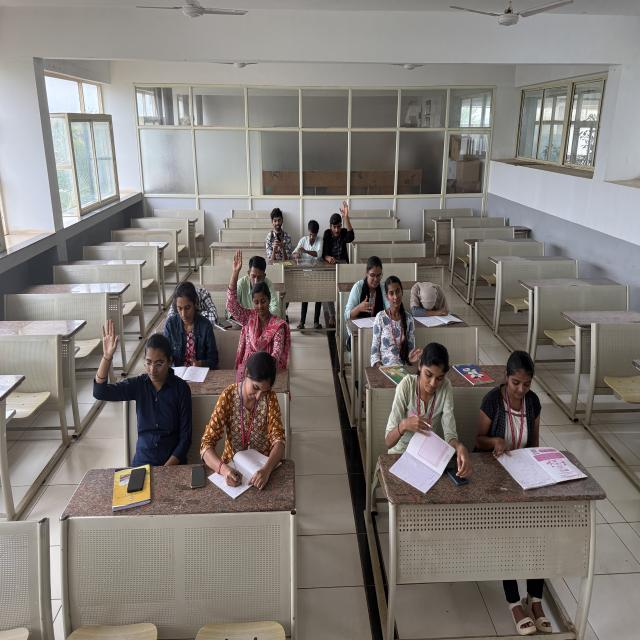Hand Rising: (88, 315, 190, 443), (228, 250, 291, 355), (320, 200, 358, 262)
Reading: (384, 338, 477, 509), (477, 346, 573, 472), (149, 272, 224, 386)
Sleeping: (407, 269, 457, 319)
Using Phone: (262, 206, 294, 260)
Writing: (203, 350, 295, 490), (354, 252, 401, 338), (290, 220, 325, 269)
